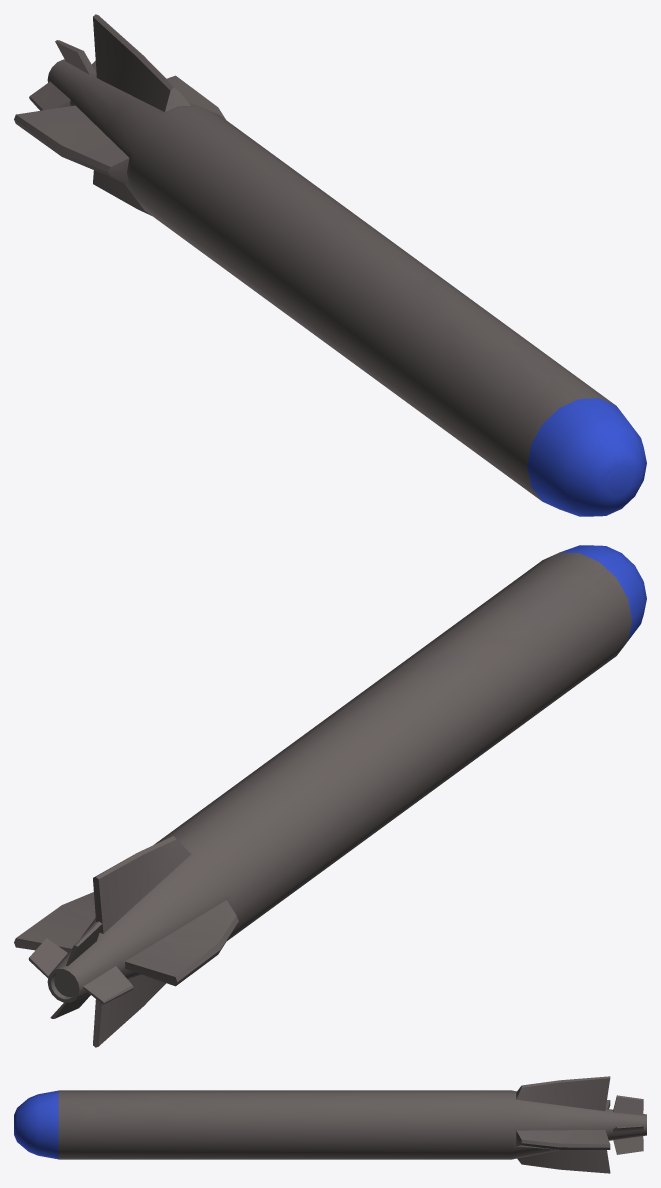
Rendered from Torpedo.fbx.
The picture shows the model from 3 angles, top to bottom: view 1: azimuth 30°, elevation 25°; view 2: azimuth 150°, elevation 25°; view 3: azimuth 270°, elevation 25°; orthographic projection. The views are drawn at different scales.
Visible parts, largest first — view 1: Cylinder; view 2: Cylinder; view 3: Cylinder.
Boxes of the visible parts, bbox=[...] form: Cylinder: bbox=[14, 14, 646, 516]; Cylinder: bbox=[14, 545, 646, 1047]; Cylinder: bbox=[14, 1076, 646, 1173].
Size of the model in its own units: 450 by 450 by 2653.
